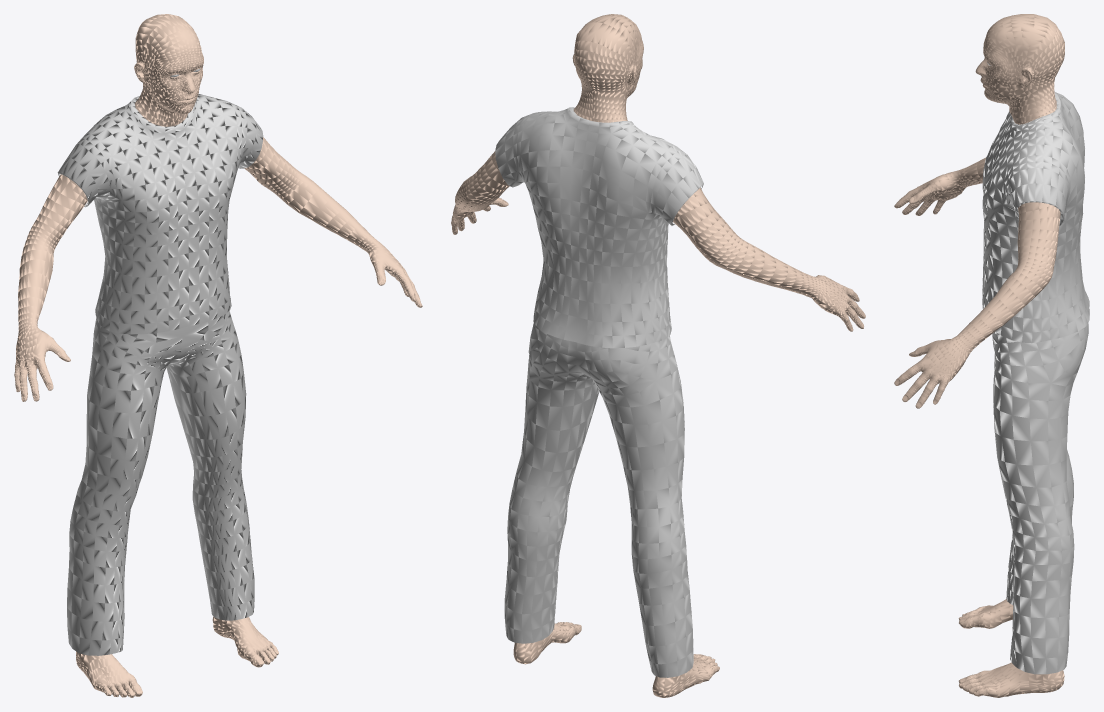
Rendered from Makehumanexportfordesign.gltf.
The picture shows the model from 3 angles, left to right: view 1: azimuth 30°, elevation 25°; view 2: azimuth 150°, elevation 25°; view 3: azimuth 270°, elevation 25°; orthographic projection.
Visible parts, largest first — view 1: male_casualsuit04Mesh, makehumanexportfordesignMesh; view 2: male_casualsuit04Mesh, makehumanexportfordesignMesh; view 3: male_casualsuit04Mesh, makehumanexportfordesignMesh.
Part boxes in pixels (<box>): male_casualsuit04Mesh: <box>57,94,263,655</box>; makehumanexportfordesignMesh: <box>14,14,422,697</box>; male_casualsuit04Mesh: <box>495,107,703,677</box>; makehumanexportfordesignMesh: <box>451,14,865,697</box>; male_casualsuit04Mesh: <box>982,92,1089,674</box>; makehumanexportfordesignMesh: <box>894,14,1064,697</box>.
Bounding box in the file's own units: 114 × 175 × 48.4.
